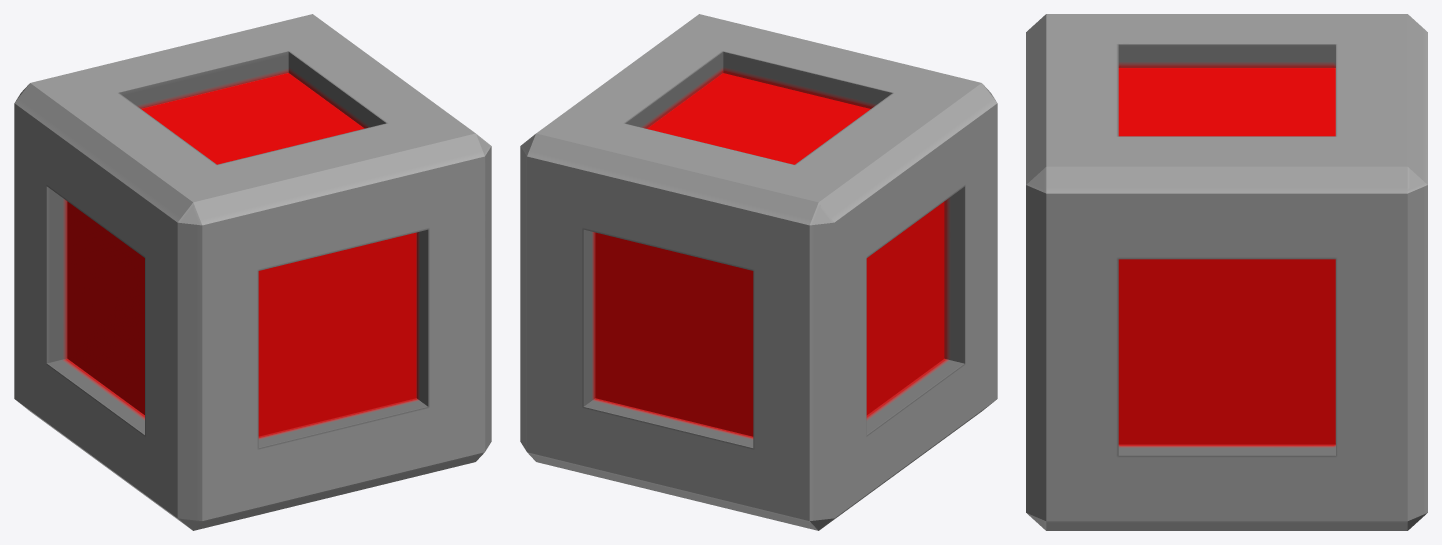
The model's file is cube_framed2.fbx.
3 renders of one model, left to right at view 1: azimuth 30°, elevation 25°; view 2: azimuth 150°, elevation 25°; view 3: azimuth 270°, elevation 25°, orthographic. The views are drawn at different scales.
Visible parts, largest first — view 1: Cube_Framed2; view 2: Cube_Framed2; view 3: Cube_Framed2.
Part boxes in pixels (x1=…): Cube_Framed2: x1=14, y1=14, x2=491, y2=530; Cube_Framed2: x1=520, y1=14, x2=997, y2=530; Cube_Framed2: x1=1026, y1=14, x2=1427, y2=530.
Size of the model in its own units: 1 by 1 by 1.
